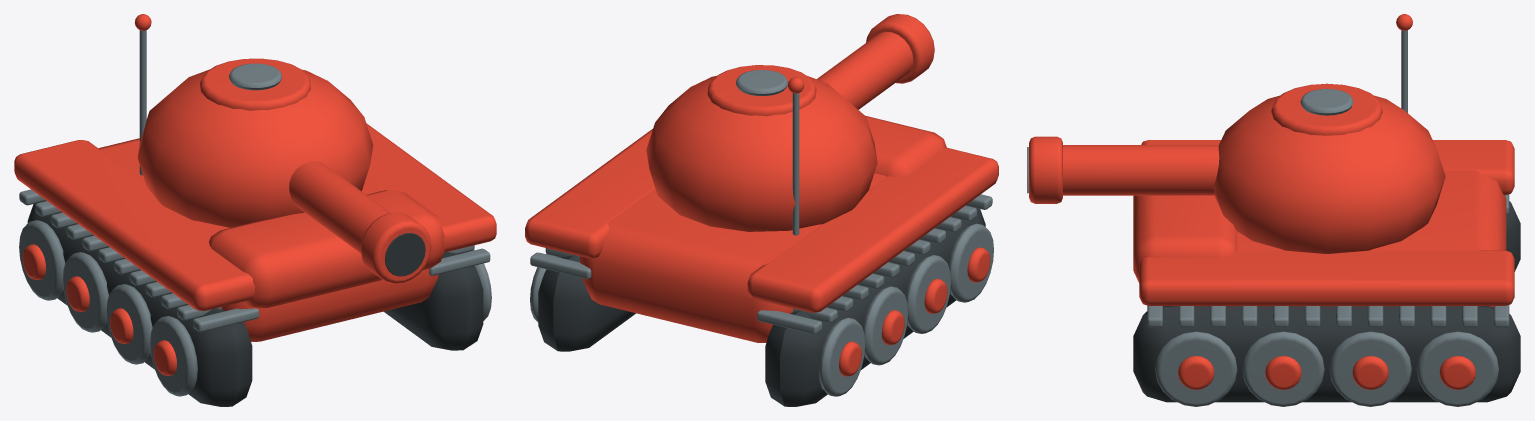
Rendered from COM-TANK-02.glb.
The picture shows the model from 3 angles, left to right: view 1: azimuth 30°, elevation 25°; view 2: azimuth 150°, elevation 25°; view 3: azimuth 270°, elevation 25°; orthographic projection.
Parts seen in each view (by area): view 1: cast turret, fender.001, front glacis, hull, track-belt.001, fender, track-belt, barrel tube, hatch, muzzle rim, road wheel.007, road wheel.005 (+12 smaller); view 2: cast turret, hull, fender.001, fender, track-belt.001, track-belt, barrel tube, hatch, front glacis, road wheel.004, road wheel.007, road wheel.005 (+11 smaller); view 3: cast turret, fender, track-belt, barrel tube, hull, front glacis, road wheel.001, road wheel, road wheel.002, road wheel.003, hatch, fender.001 (+8 smaller).
Part boxes in pixels (left/top/right/bottom): cast turret: left=137, top=69, right=373, bottom=227; fender.001: left=14, top=140, right=254, bottom=310; front glacis: left=209, top=190, right=444, bottom=308; hull: left=98, top=138, right=438, bottom=341; track-belt.001: left=27, top=200, right=252, bottom=406; fender: left=364, top=123, right=496, bottom=252; track-belt: left=384, top=252, right=483, bottom=350; barrel tube: left=289, top=161, right=390, bottom=253; hatch: left=200, top=58, right=310, bottom=110; muzzle rim: left=360, top=212, right=431, bottom=283; road wheel.007: left=150, top=316, right=197, bottom=396; road wheel.005: left=62, top=252, right=108, bottom=332; cast turret: left=646, top=76, right=877, bottom=231; hull: left=580, top=173, right=886, bottom=342; fender.001: left=747, top=147, right=998, bottom=312; fender: left=525, top=129, right=655, bottom=258; track-belt.001: left=765, top=205, right=985, bottom=406; track-belt: left=538, top=255, right=635, bottom=351; barrel tube: left=817, top=31, right=913, bottom=109; hatch: left=707, top=65, right=816, bottom=116; front glacis: left=866, top=116, right=946, bottom=176; road wheel.004: left=818, top=317, right=865, bottom=396; road wheel.007: left=948, top=223, right=993, bottom=302; road wheel.005: left=863, top=286, right=908, bottom=365; cast turret: left=1213, top=95, right=1445, bottom=253; fender: left=1139, top=250, right=1514, bottom=305; track-belt: left=1133, top=306, right=1520, bottom=402; barrel tube: left=1063, top=145, right=1219, bottom=195; hull: left=1163, top=170, right=1506, bottom=307; front glacis: left=1133, top=195, right=1237, bottom=282; road wheel.001: left=1329, top=331, right=1411, bottom=406; road wheel: left=1416, top=331, right=1498, bottom=406; road wheel.002: left=1242, top=331, right=1324, bottom=406; road wheel.003: left=1155, top=331, right=1237, bottom=406; hatch: left=1271, top=83, right=1382, bottom=135; fender.001: left=1141, top=140, right=1514, bottom=195.
Bounding box in the file's own units: 1.53 × 1.34 × 2.04.
